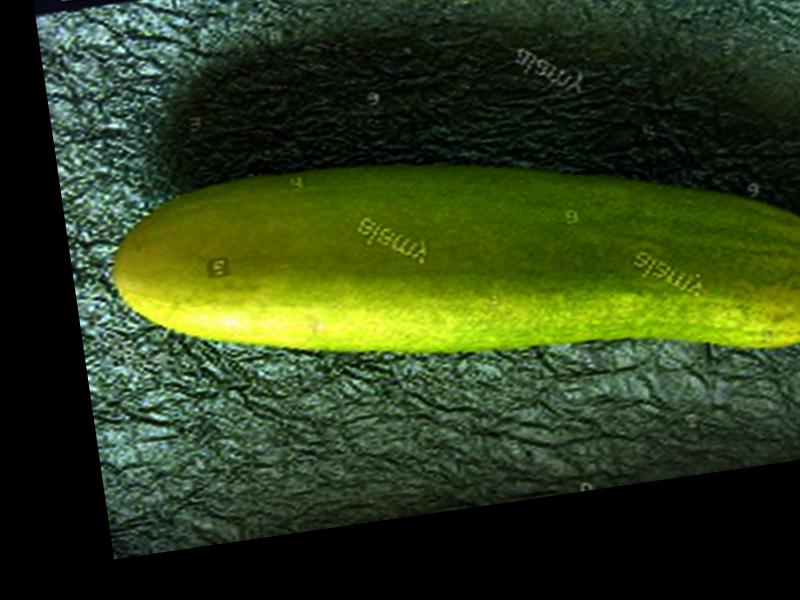Cucumber: (101, 94, 800, 440)
